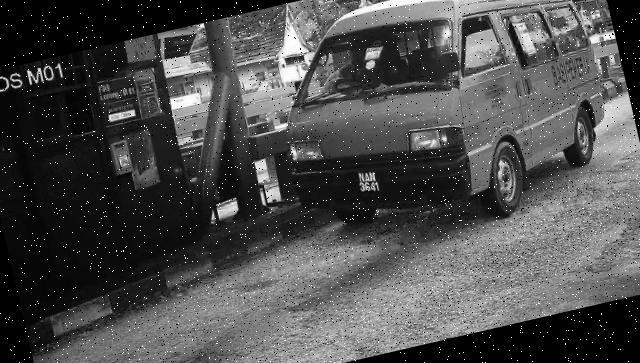License_Plate: (348, 166, 387, 204)
van: (258, 1, 626, 262)
